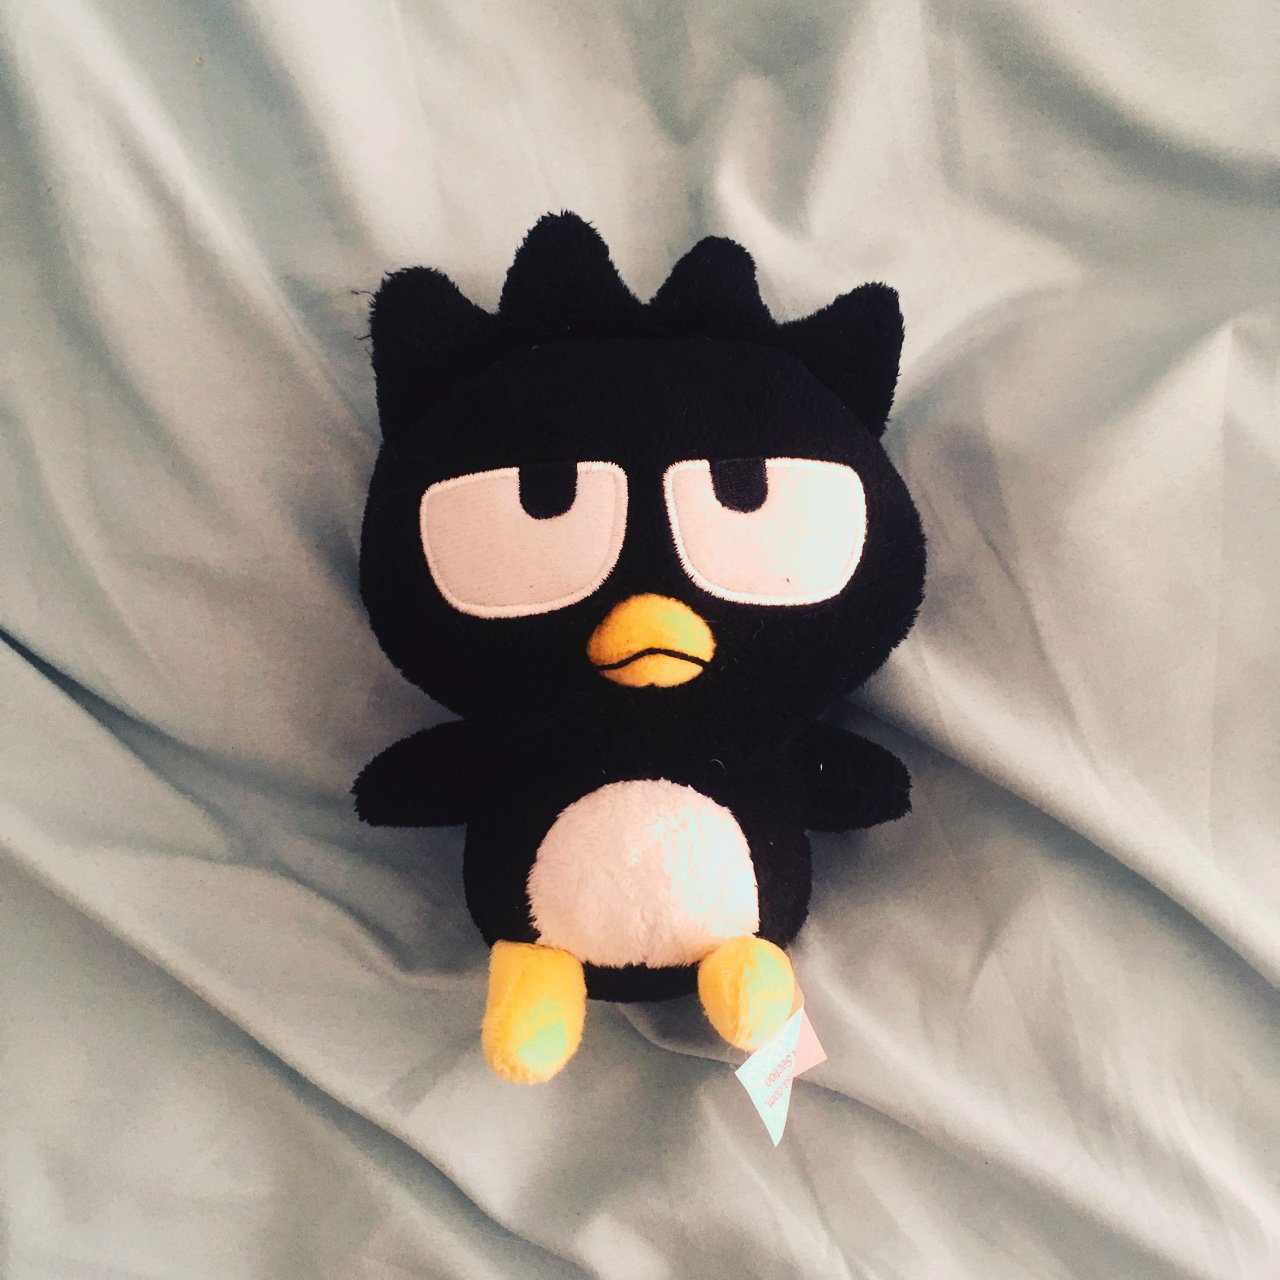batsumaru: (349, 210, 913, 1082)
